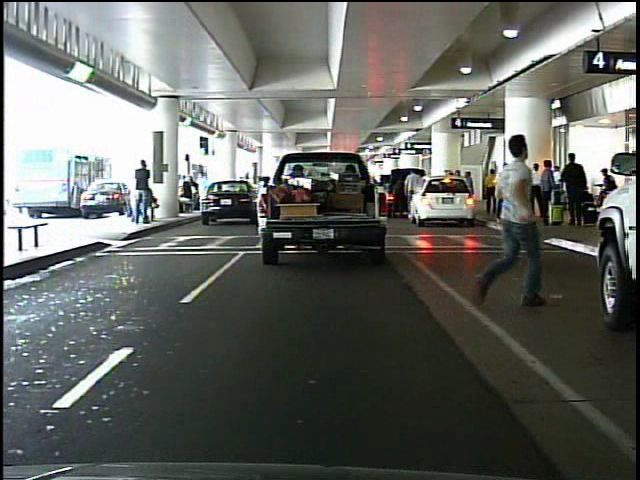person: (466, 118, 548, 325), (562, 143, 590, 230), (491, 157, 522, 229), (131, 157, 155, 227), (402, 165, 426, 222), (538, 152, 555, 230), (597, 164, 620, 192)
